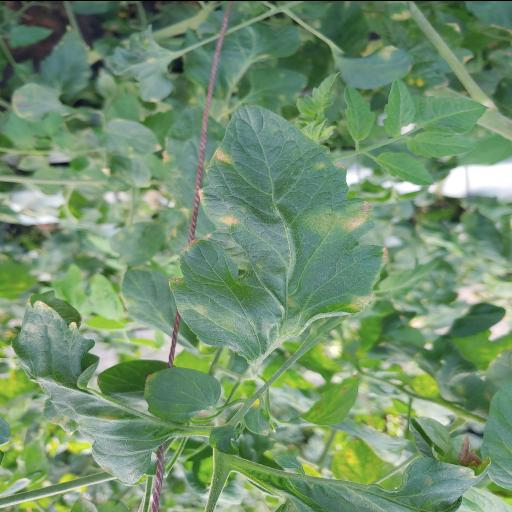Leaf Mold: (168, 101, 386, 359), (10, 288, 180, 482)
